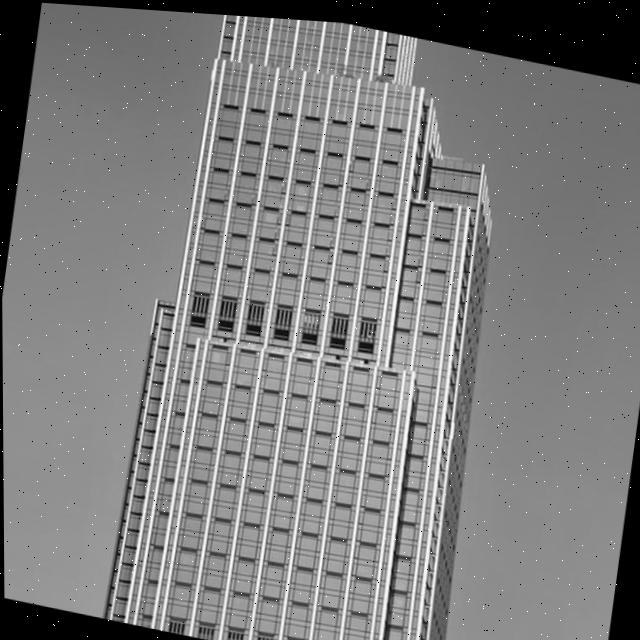building: (98, 7, 530, 640)
